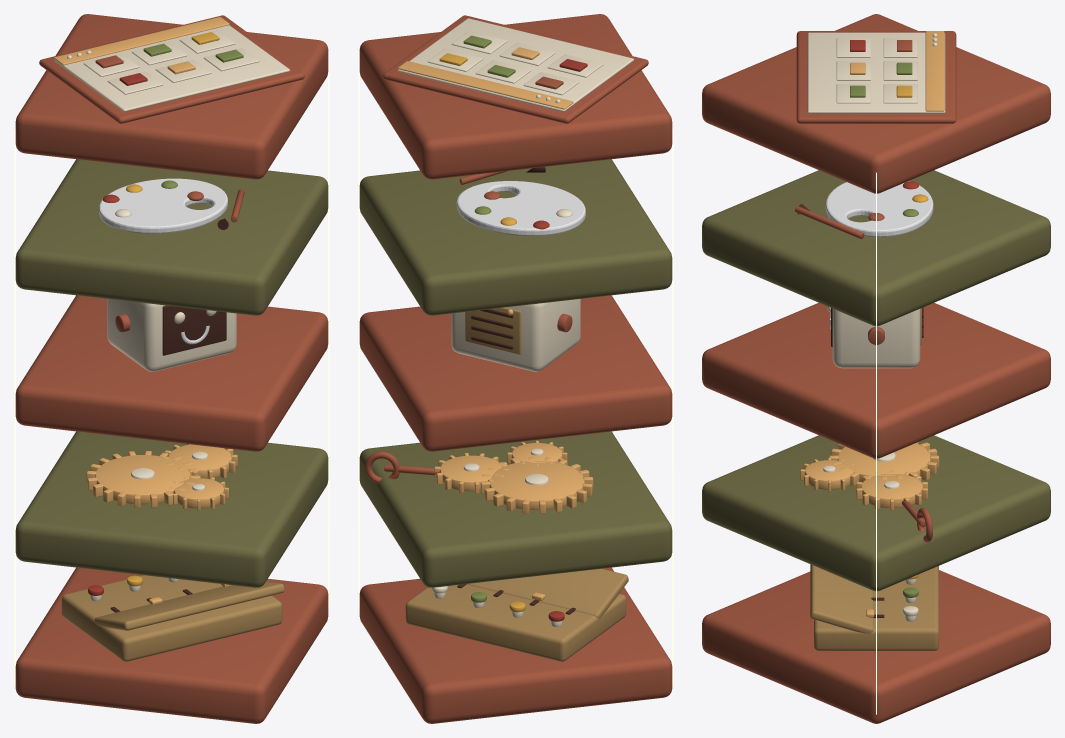
Rendered from stack.glb.
The picture shows the model from 3 angles, left to right: view 1: azimuth 30°, elevation 25°; view 2: azimuth 150°, elevation 25°; view 3: azimuth 270°, elevation 25°; orthographic projection. The views are drawn at different scales.
Parts seen in each view (by area): view 1: stack_terracotta, stack_sage, stack_cream, stack_gold, stack_desk, stack_face_dark, stack_thread, stack_olive_dab, stack_mustard, stack_deep_red; view 2: stack_terracotta, stack_sage, stack_cream, stack_desk, stack_gold, stack_thread, stack_face_dark, stack_olive_dab, stack_deep_red, stack_mustard; view 3: stack_terracotta, stack_sage, stack_cream, stack_gold, stack_desk, stack_olive_dab.
Boxes of the visible parts, x1,y1,x2,y2 form: stack_terracotta: (15, 14, 328, 723); stack_sage: (15, 159, 328, 587); stack_cream: (54, 25, 289, 601); stack_gold: (54, 17, 237, 604); stack_desk: (61, 575, 284, 661); stack_face_dark: (110, 218, 228, 612); stack_thread: (14, 52, 329, 685); stack_olive_dab: (143, 43, 243, 188); stack_mustard: (126, 32, 219, 586); stack_deep_red: (88, 73, 147, 595); stack_terracotta: (359, 14, 672, 723); stack_sage: (359, 159, 672, 587); stack_cream: (398, 18, 633, 626); stack_desk: (405, 307, 628, 661); stack_gold: (398, 47, 593, 600); stack_thread: (358, 52, 673, 685); stack_face_dark: (457, 167, 575, 614); stack_olive_dab: (463, 35, 515, 602); stack_deep_red: (533, 59, 587, 621); stack_mustard: (439, 53, 525, 612); stack_terracotta: (702, 14, 1050, 723); stack_sage: (702, 170, 1050, 591); stack_cream: (807, 32, 945, 621); stack_gold: (800, 31, 944, 617); stack_desk: (810, 308, 938, 650); stack_olive_dab: (850, 62, 918, 597).
Size of the model in its own units: 2.81 by 5.13 by 2.77.
